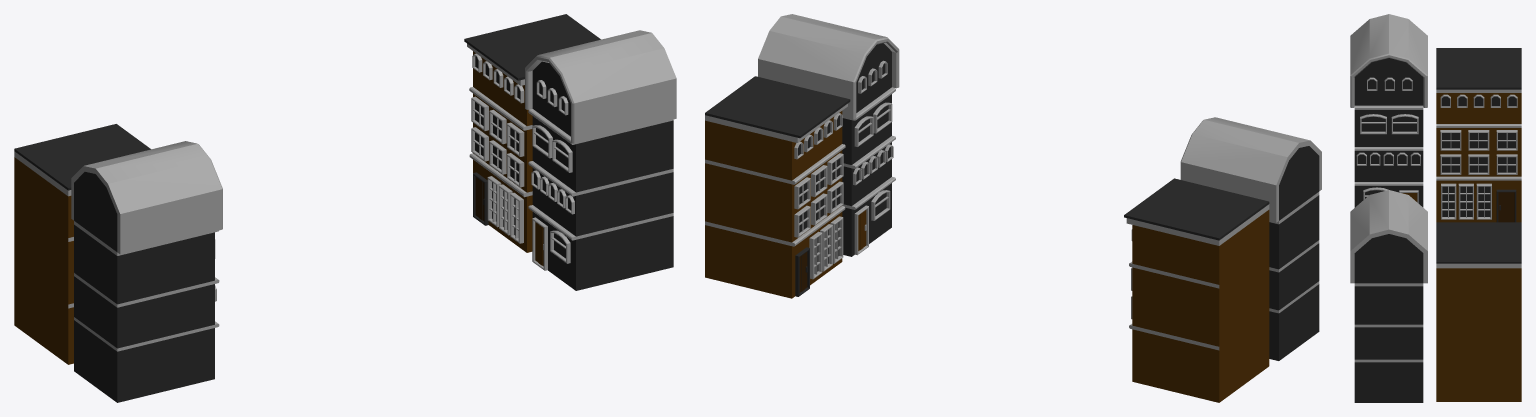
The model's file is House1.fbx.
3 renders of one model, left to right at view 1: azimuth 30°, elevation 25°; view 2: azimuth 150°, elevation 25°; view 3: azimuth 270°, elevation 25°, orthographic. The views are drawn at different scales.
Visible parts, largest first — view 1: polySurface7; view 2: polySurface7; view 3: polySurface7.
Boxes of the visible parts, left/top/right/bottom form: polySurface7: left=14, top=14, right=676, bottom=402; polySurface7: left=705, top=14, right=1321, bottom=402; polySurface7: left=1350, top=14, right=1521, bottom=402.
Bounding box in the file's own units: 3339 × 1253 × 1124.
